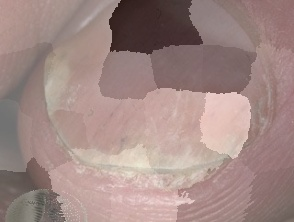Nail_psoriasis: (53, 26, 294, 222), (42, 34, 82, 128)
